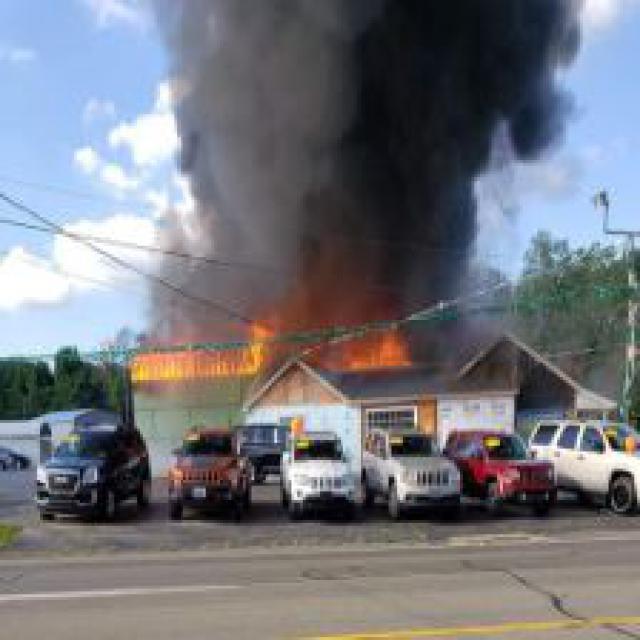fire: (132, 306, 414, 383)
